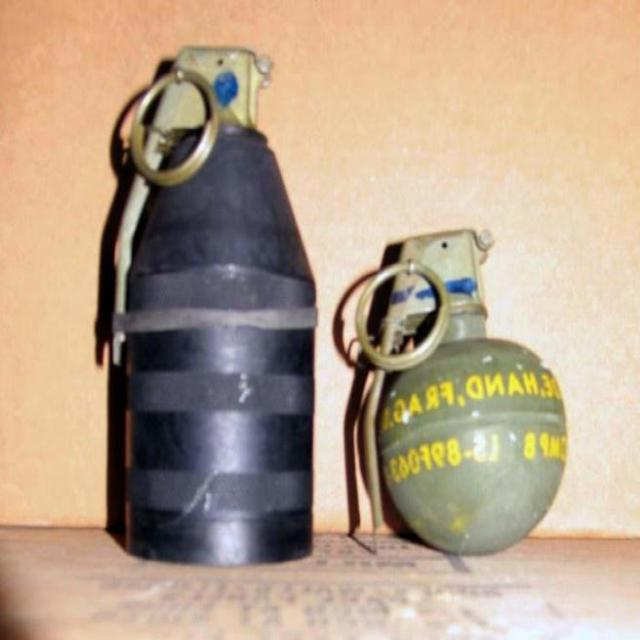grenade: (113, 47, 321, 567), (355, 229, 567, 556)
